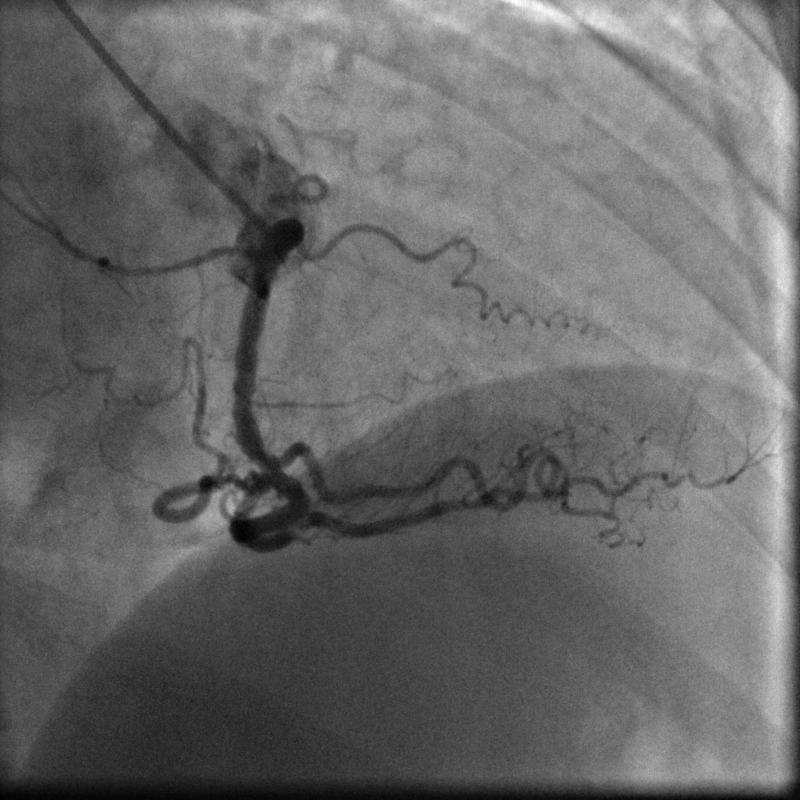Stenosis: (239, 443, 292, 483)
